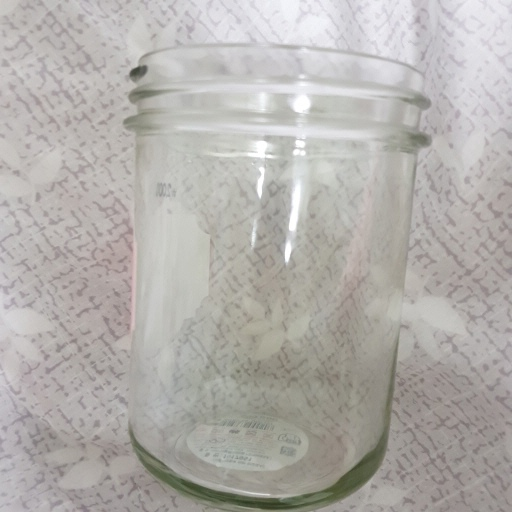Glass_5: (125, 37, 426, 507)
